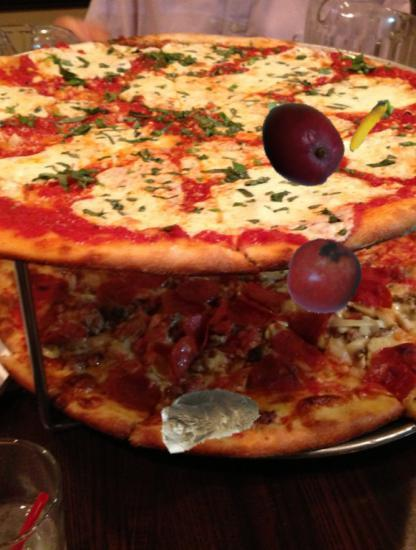Banana: (336, 94, 398, 156)
Ginger: (159, 368, 261, 470)
Mango: (256, 98, 347, 189)
Pomegranate: (285, 238, 362, 315)
